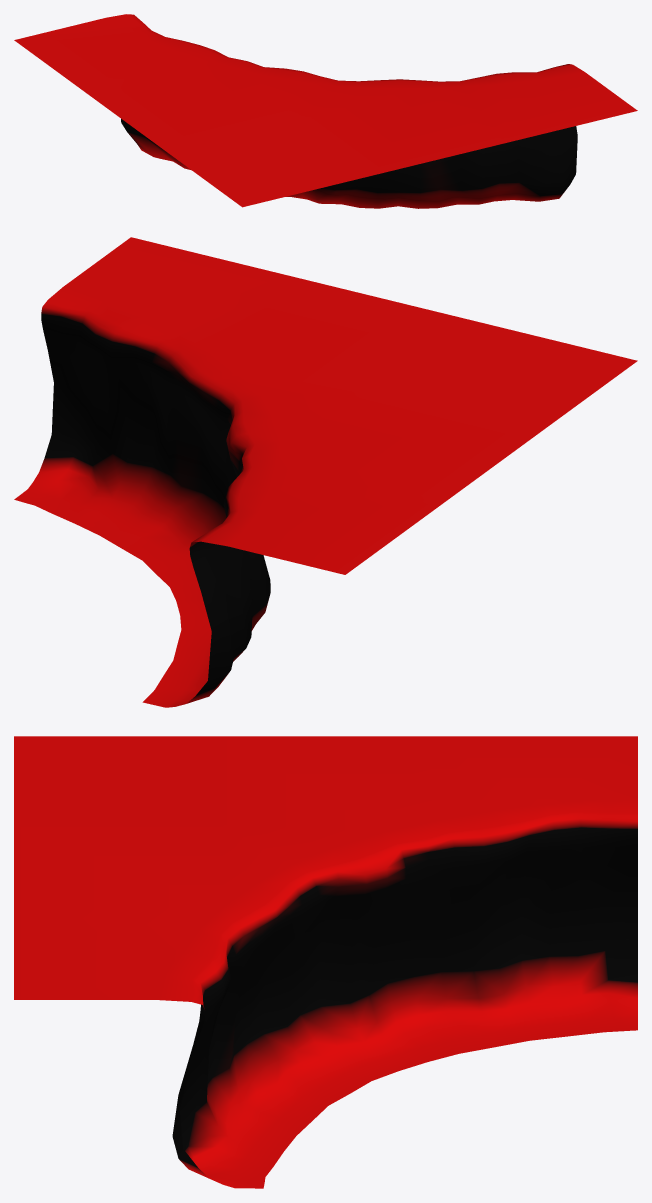
Rendered from GroundCliff04B 1M Background.fbx.
3 views of the same model, one above another, from view 1: azimuth 30°, elevation 25°; view 2: azimuth 150°, elevation 25°; view 3: azimuth 270°, elevation 25° (orthographic). The views are drawn at different scales.
Parts seen in each view (by area): view 1: GroundCliff04B 1M Background; view 2: GroundCliff04B 1M Background; view 3: GroundCliff04B 1M Background.
Boxes of the visible parts, box(x1,y1,x2,y2) form: GroundCliff04B 1M Background: box(14, 14, 637, 208); GroundCliff04B 1M Background: box(14, 237, 637, 707); GroundCliff04B 1M Background: box(14, 736, 637, 1188).
Bounding box in the file's own units: 3 × 1 × 3.
